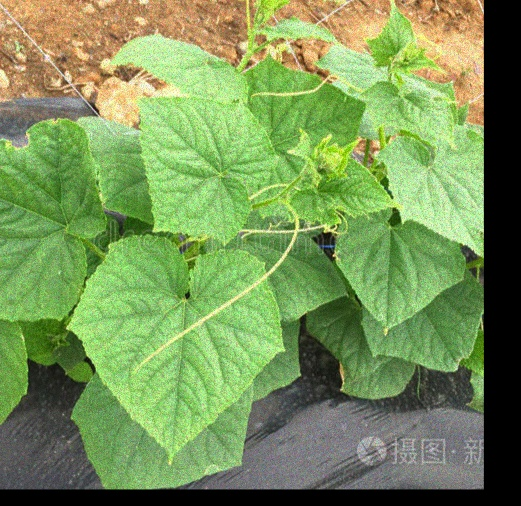cucumber_plant: (152, 46, 471, 224), (76, 223, 286, 482)
